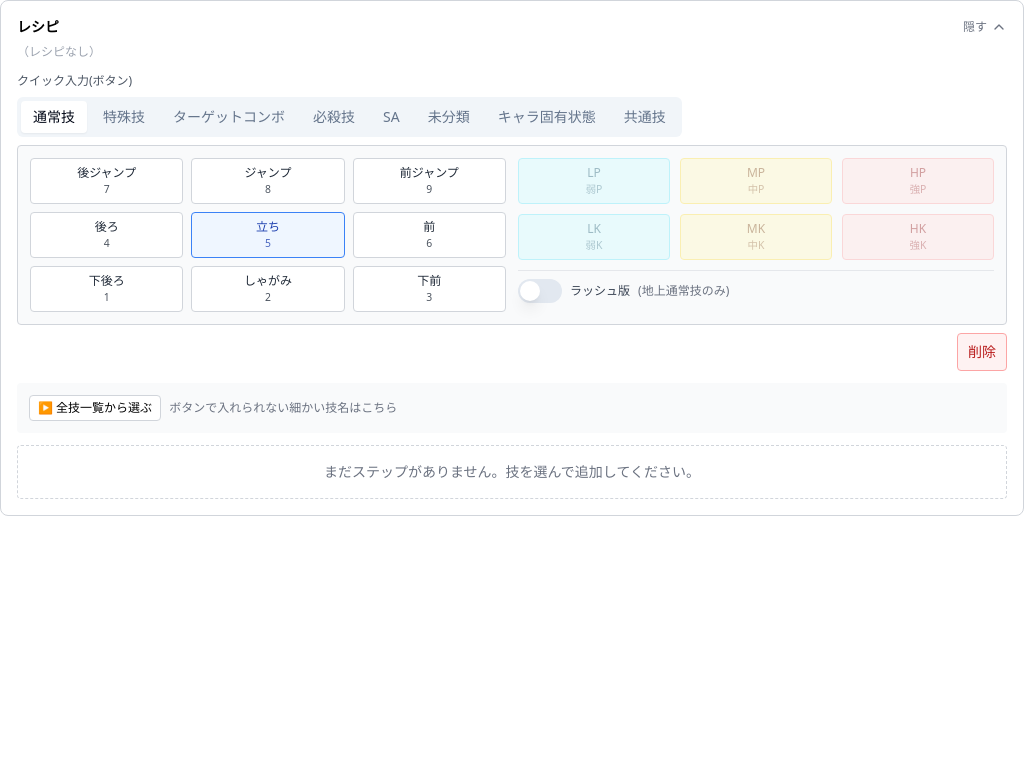
Test: RecipeBuilder draftNotes 警告 › notes 入力欄が存在する(プルダウン展開後)
Click the button with test id "recipe-pulldown-toggle".
click(95, 408)  # box [29,395,161,421]
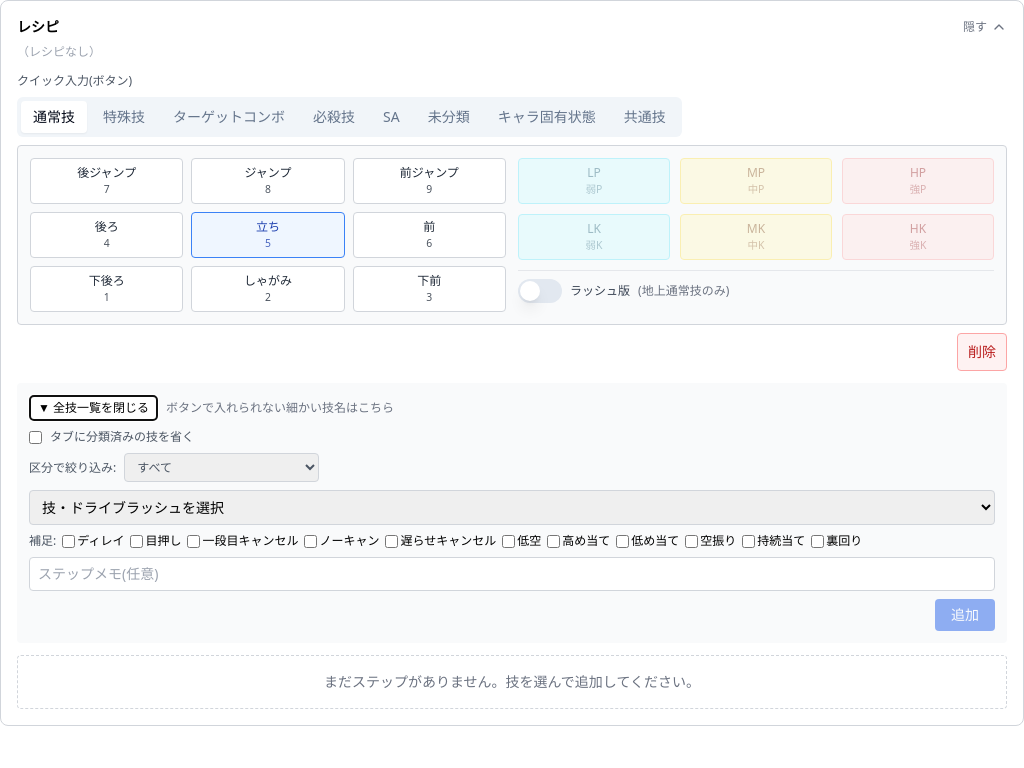
Expected: the field with placeholder "ステップメモ(任意)" is shown, [29,557,995,591]
